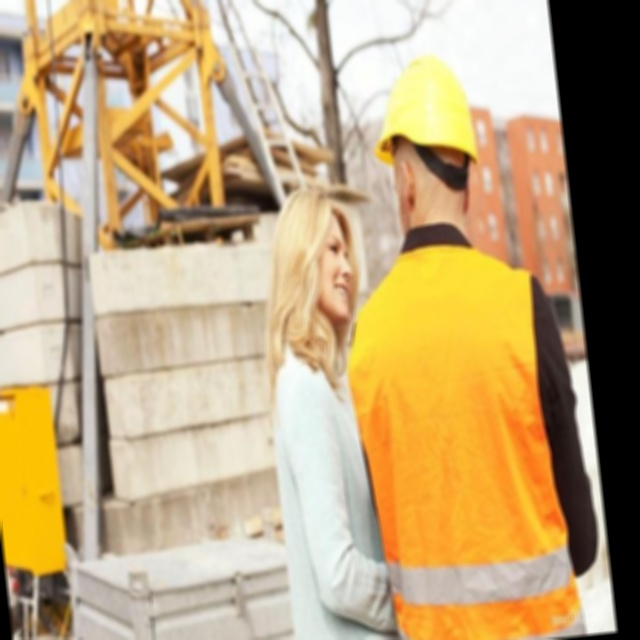Con_Casco: (378, 54, 483, 237)
Con_Chaleco: (353, 248, 588, 640)
Sin_Casco_Mascarrilla: (275, 185, 357, 330)
Sin_Chaleco: (258, 354, 392, 640)
